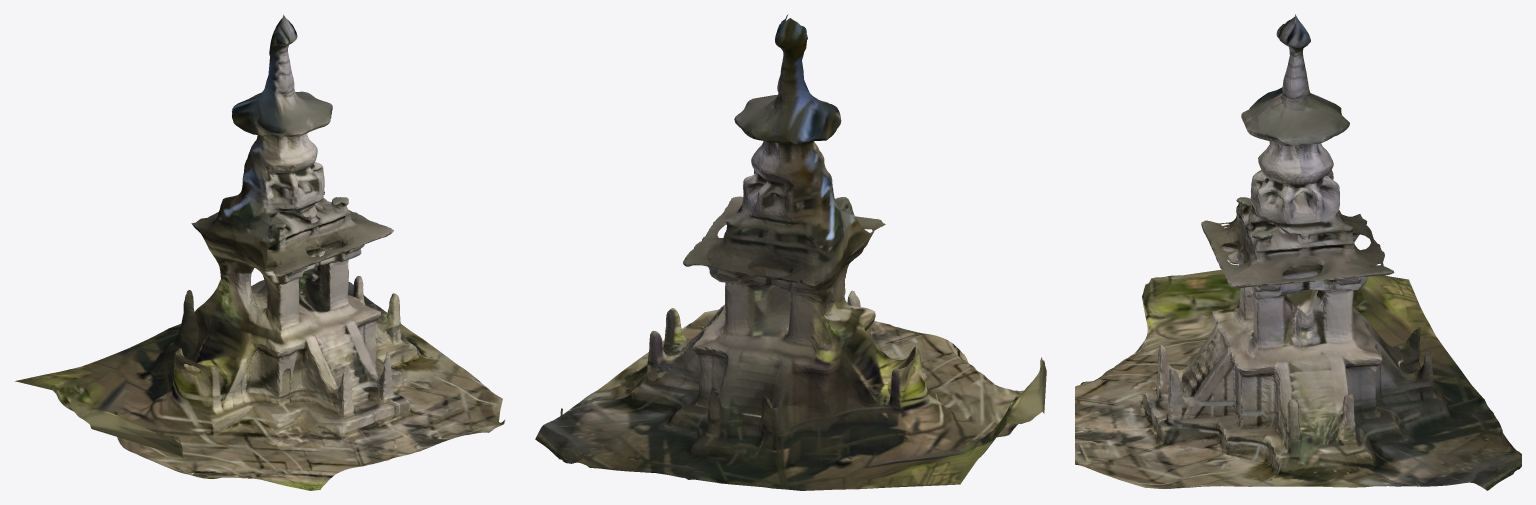
File: tower.glb
The picture shows the model from 3 angles, left to right: view 1: azimuth 30°, elevation 25°; view 2: azimuth 150°, elevation 25°; view 3: azimuth 270°, elevation 25°; orthographic projection. The views are drawn at different scales.
Bounding box in the file's own units: 1.03 × 1.04 × 1.02.
Materials: 1 (1 with a texture image).
